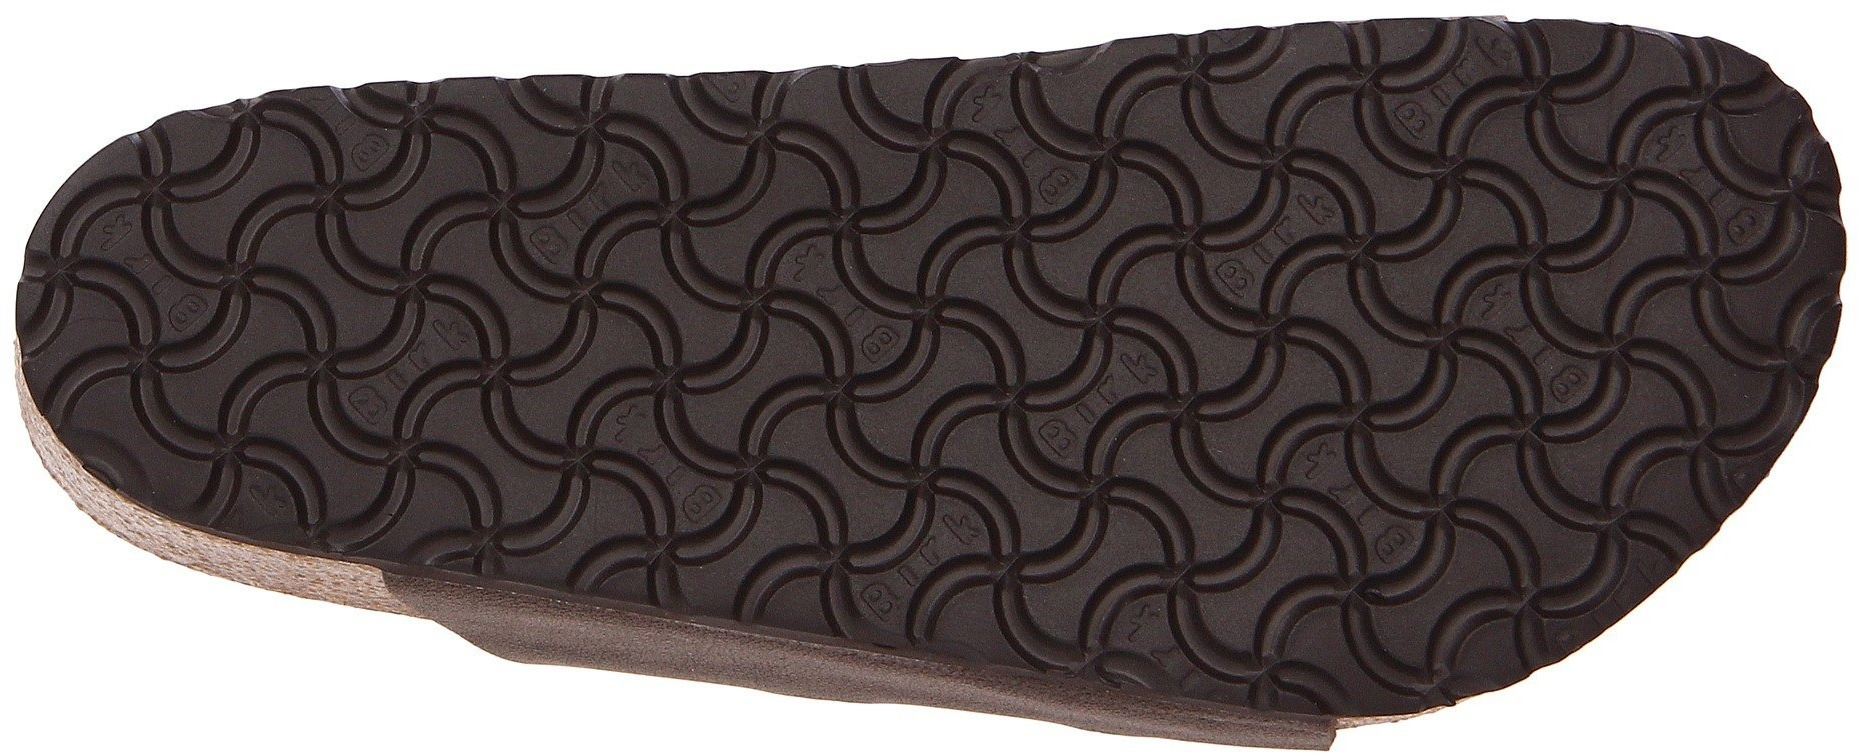bowtie: (624, 162, 1098, 601), (1160, 106, 1617, 558), (441, 95, 803, 511), (145, 161, 527, 536), (1234, 60, 1572, 437), (821, 81, 1211, 384), (81, 164, 430, 441), (813, 392, 1138, 644), (1154, 436, 1429, 692), (1580, 129, 1818, 381), (1433, 445, 1623, 622)
star: (441, 95, 803, 511), (1234, 60, 1572, 437), (821, 81, 1211, 384), (81, 164, 430, 441), (813, 392, 1138, 644), (1154, 436, 1429, 692), (1580, 129, 1818, 381)
text: (624, 162, 1098, 601), (1160, 106, 1617, 558), (441, 95, 803, 511), (145, 161, 527, 536), (1234, 60, 1572, 437), (821, 81, 1211, 384), (81, 164, 430, 441), (813, 392, 1138, 644), (1154, 436, 1429, 692), (1580, 129, 1818, 381)
